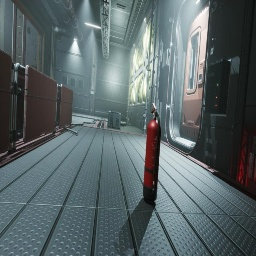FireExtinguisher ]: (143, 103, 161, 202)
